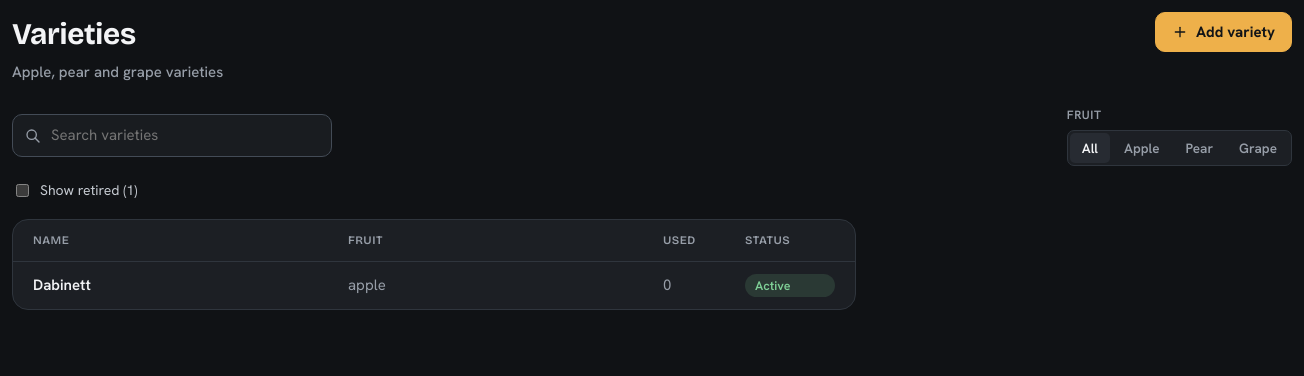
Test case: ManagementList › hides retired items until "Show retired" is toggled
Expected: the text "Dabinett" is shown, 33,275 -> 91,295
Expected: the text "Old Variety" is not shown
# Count stays correct even though the retired row is hidden.
Click the checkbox labelled "Show retired (1)".
click(22, 190)  # box 16,184 -> 29,196
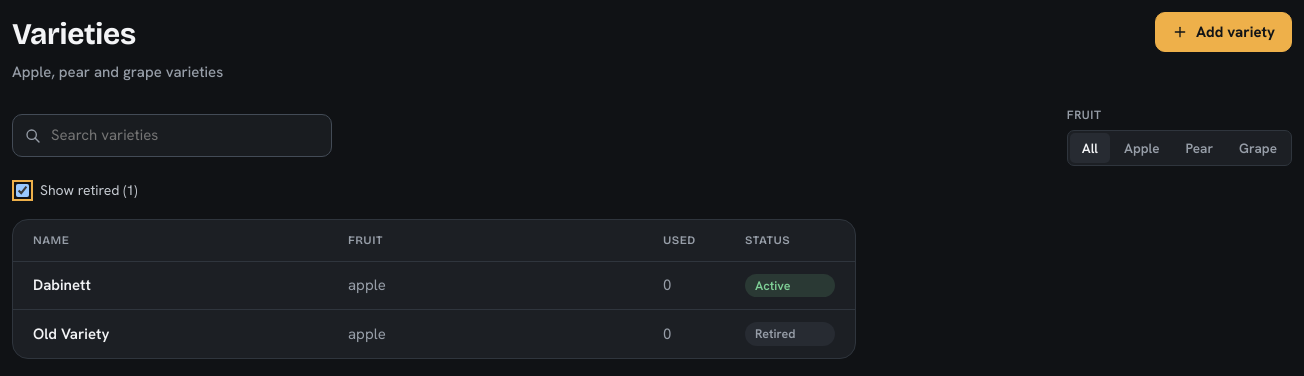
Expected: the text "Old Variety" is shown, 33,324 -> 109,344
